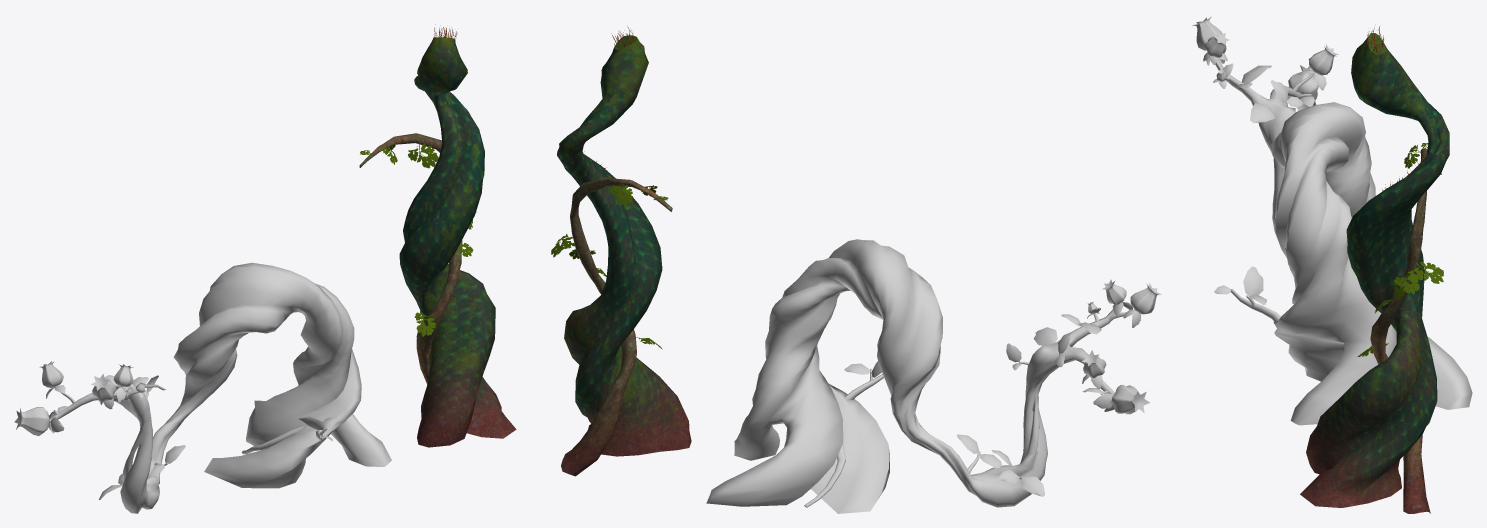
File: alienPlants1_edit_for_FBX.fbx
The picture shows the model from 3 angles, left to right: view 1: azimuth 30°, elevation 25°; view 2: azimuth 150°, elevation 25°; view 3: azimuth 270°, elevation 25°; orthographic projection. The views are drawn at different scales.
Parts seen in each view (by area): view 1: plants01, plants02; view 2: plants01, plants02; view 3: plants01, plants02.
Part boxes in pixels (x1,y1,x2,y2): plants01: (14,262,391,513); plants02: (359,24,516,447); plants01: (706,239,1161,513); plants02: (551,26,691,476); plants01: (1192,16,1472,425); plants02: (1300,26,1449,513).
Bounding box in the file's own units: 2320 × 1834 × 972.
